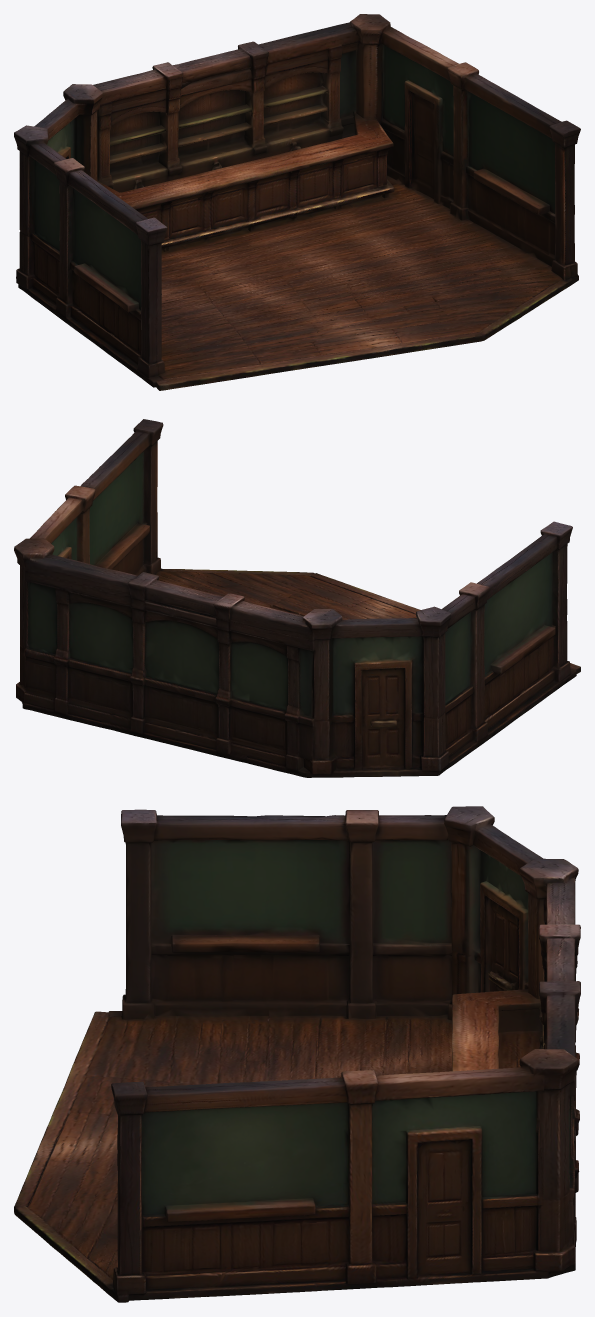
The model's file is Divebar.glb.
3 renders of one model, top to bottom at view 1: azimuth 30°, elevation 25°; view 2: azimuth 150°, elevation 25°; view 3: azimuth 270°, elevation 25°, orthographic. The views are drawn at different scales.
Visible parts, largest first — view 1: tripo_node_be721af8-1858-4d23-8ec9-10ba6bd74cf4; view 2: tripo_node_be721af8-1858-4d23-8ec9-10ba6bd74cf4; view 3: tripo_node_be721af8-1858-4d23-8ec9-10ba6bd74cf4.
Boxes of the visible parts, x1=… form: tripo_node_be721af8-1858-4d23-8ec9-10ba6bd74cf4: x1=14, y1=14, x2=580, y2=390; tripo_node_be721af8-1858-4d23-8ec9-10ba6bd74cf4: x1=14, y1=419, x2=580, y2=777; tripo_node_be721af8-1858-4d23-8ec9-10ba6bd74cf4: x1=14, y1=806, x2=580, y2=1302.
Bounding box in the file's own units: 1 × 0.344 × 0.8352.
1 material, 1 textured.
